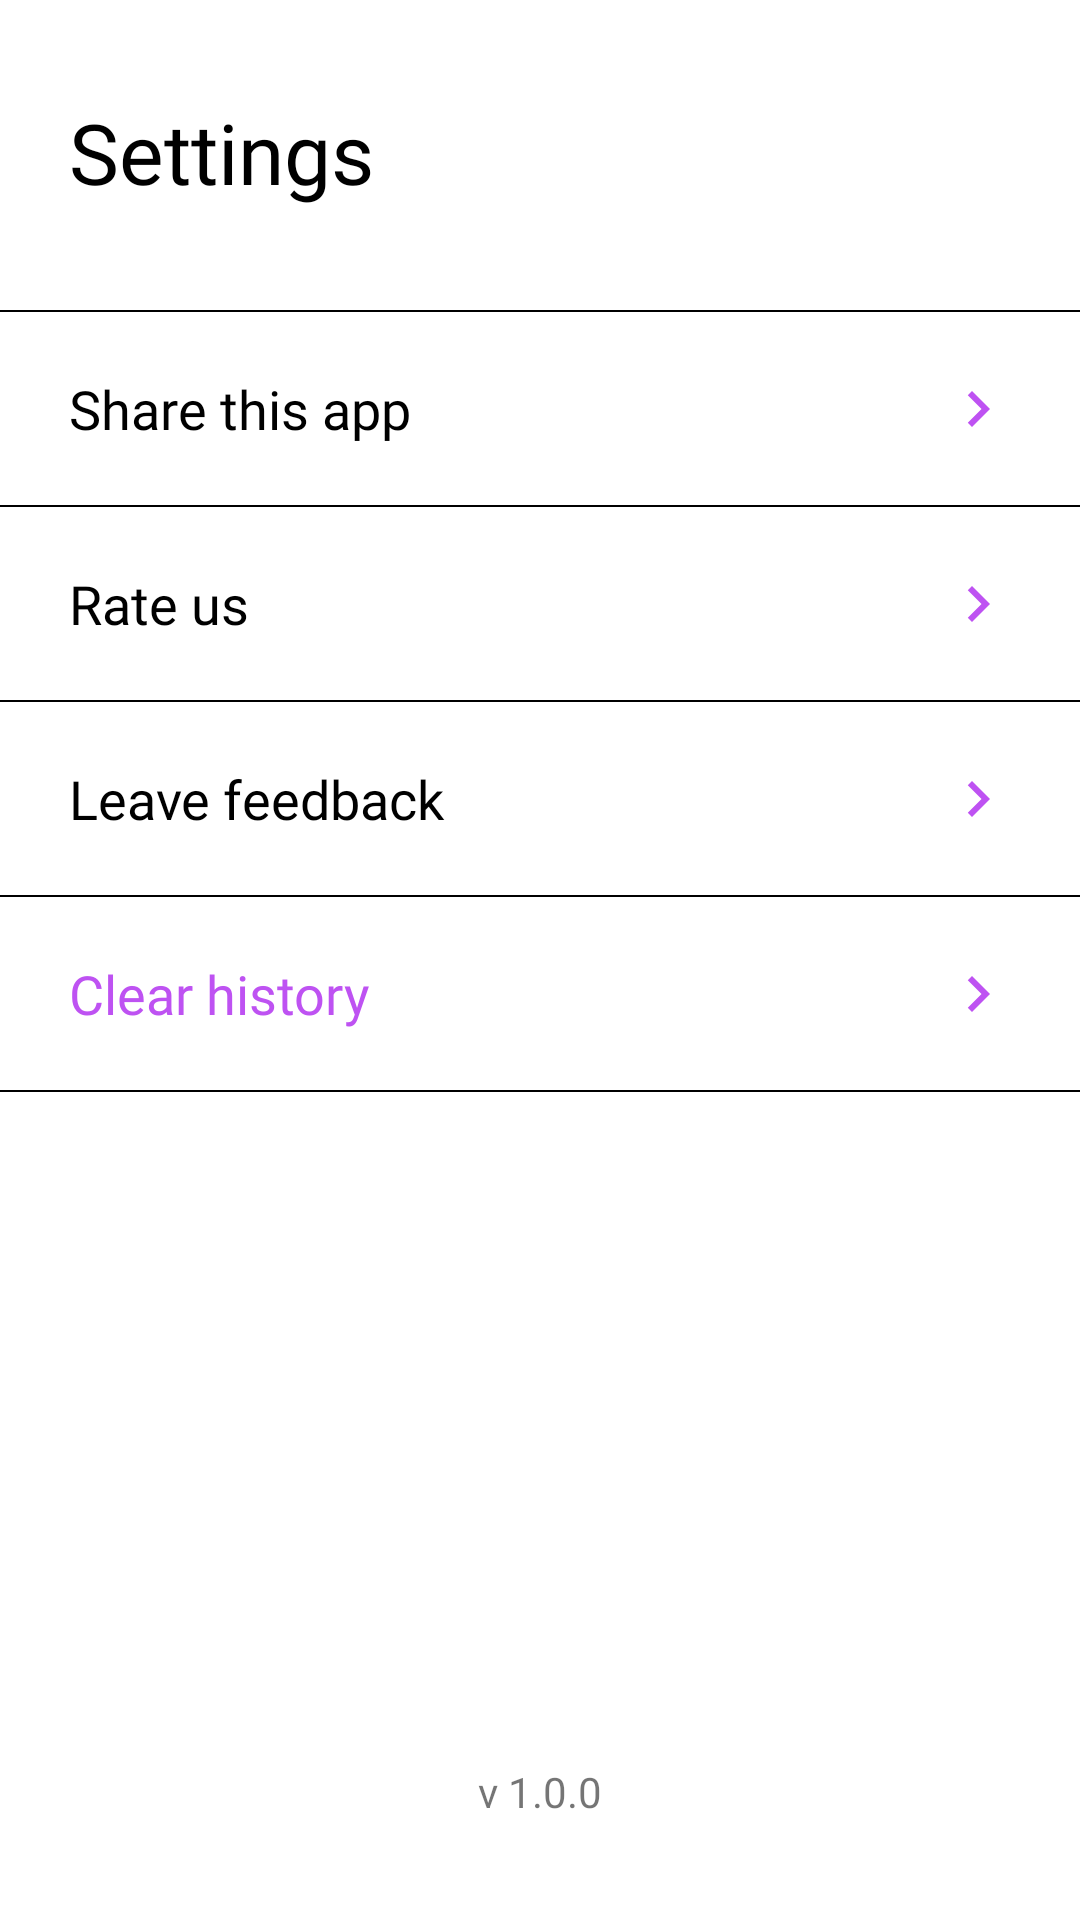

Icons on this 1080 x 1920 Android screen, each with the point to tap as (x=x, y=y):
navigate next: (x=979, y=409), (x=979, y=604), (x=979, y=799), (x=979, y=994)
